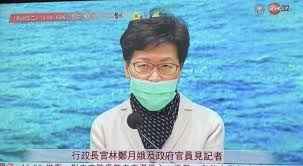with_incorrect_mask: (134, 51, 179, 98)
